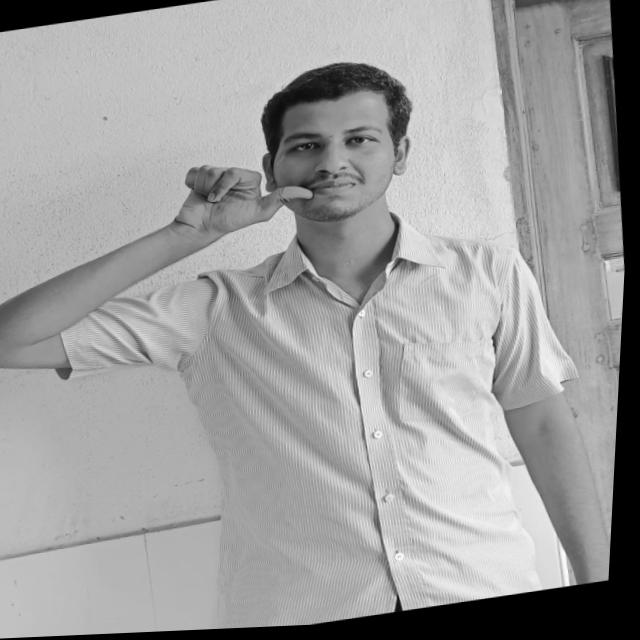Drink: (165, 147, 324, 250)
